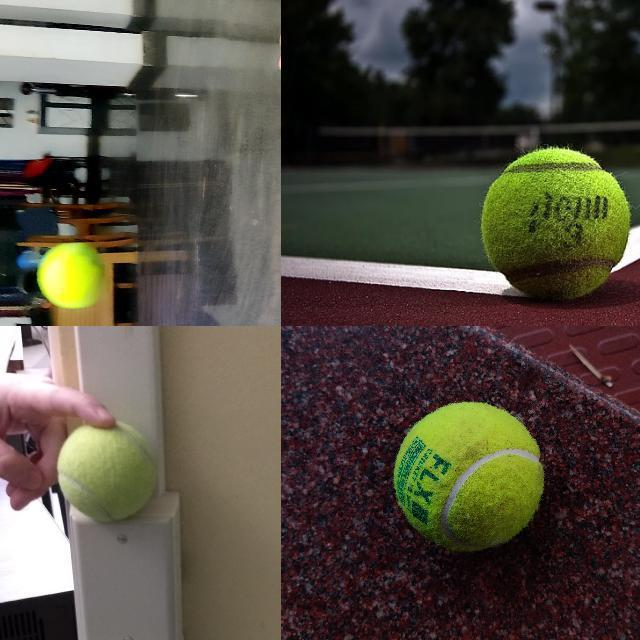tennis-ball: (480, 146, 631, 298), (393, 402, 544, 551), (56, 419, 159, 524), (35, 243, 105, 310)
